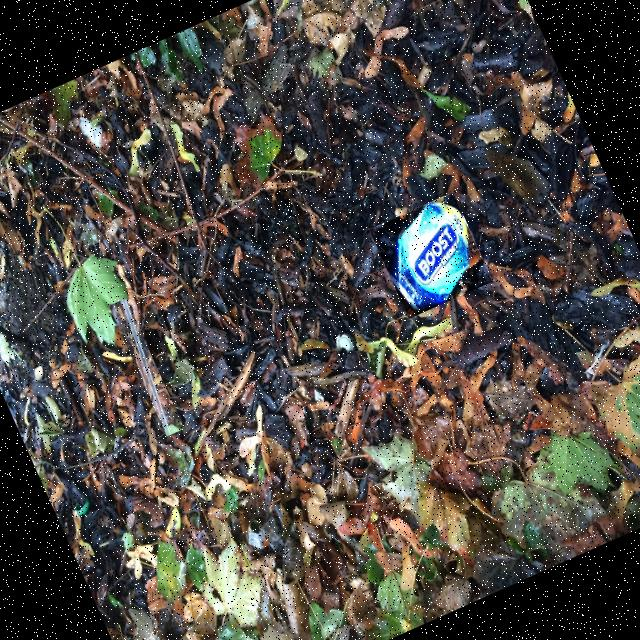Drink can: (390, 203, 472, 311)
Metal bottle cap: (336, 332, 357, 355)
Plastic straw: (121, 299, 171, 436)
